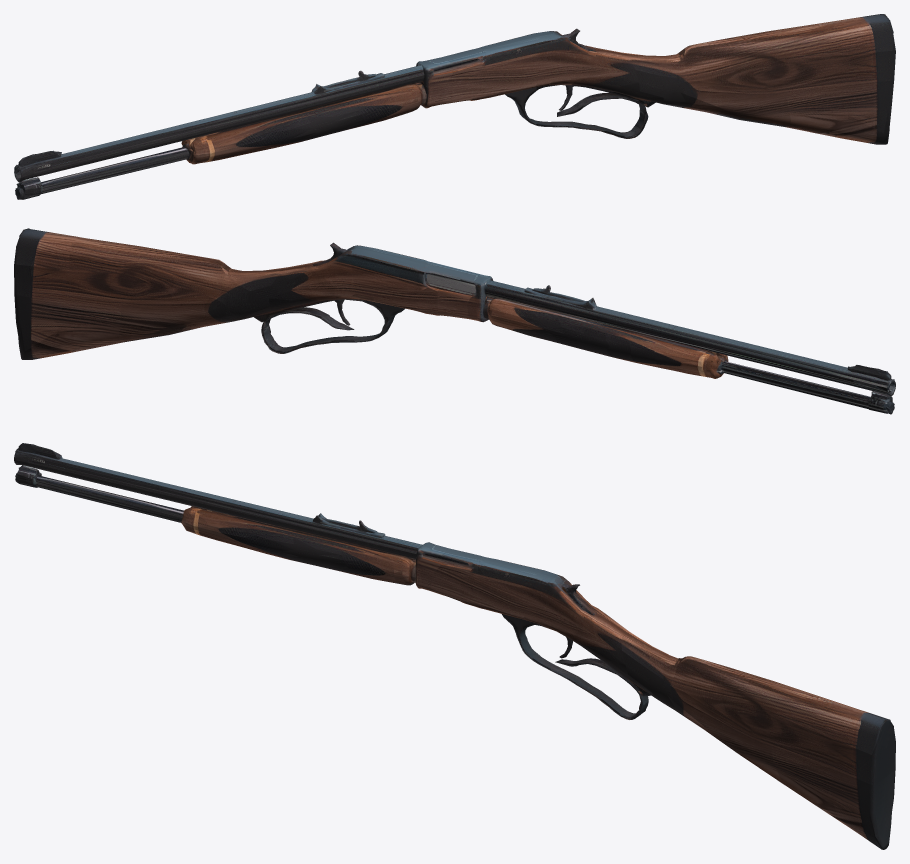
The model's file is shotgun.glb.
3 renders of one model, top to bottom at view 1: azimuth 30°, elevation 25°; view 2: azimuth 150°, elevation 25°; view 3: azimuth 330°, elevation 25°, orthographic.
Size of the model in its own units: 1 by 0.2212 by 0.0443.
Materials: 1 (1 with a texture image).
